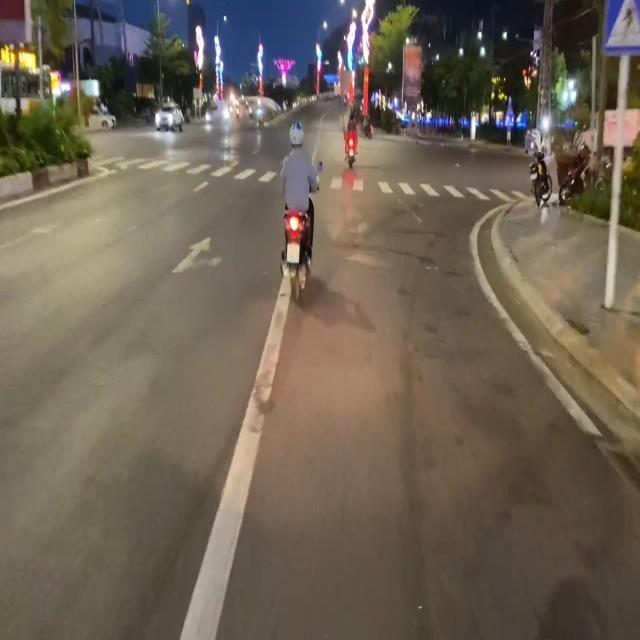walk-crossing: (92, 152, 278, 185), (322, 175, 532, 202)
